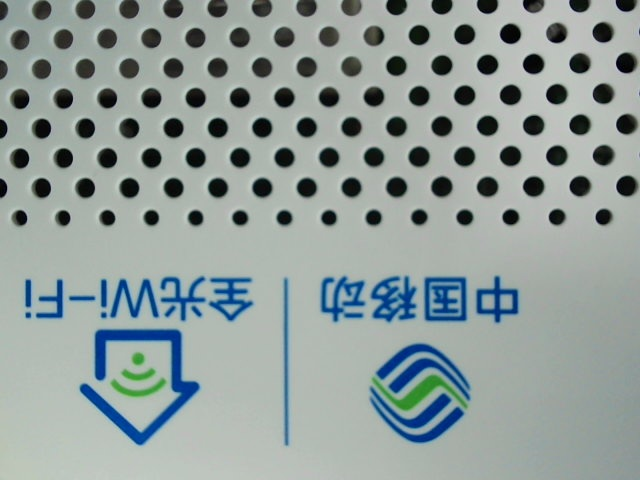BJ_QuanGuangMobile: (21, 261, 520, 444)
